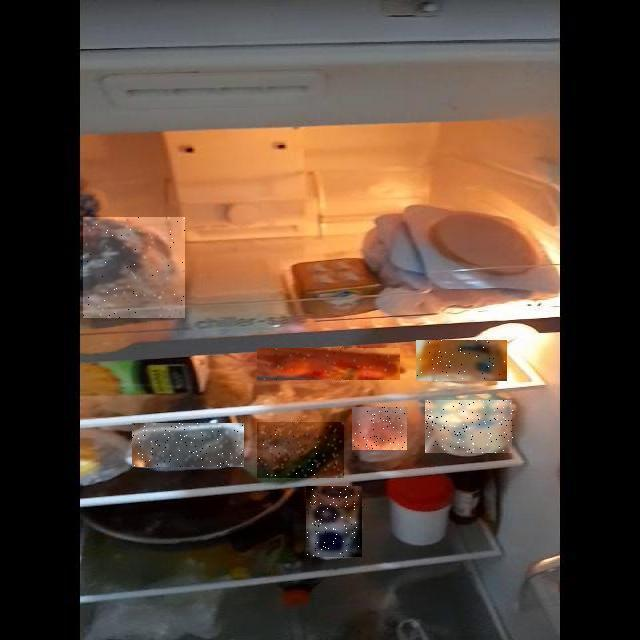Bread: (83, 217, 185, 318)
Broccoli: (132, 423, 244, 467)
Carrot: (257, 348, 400, 380)
Chillies: (257, 422, 344, 478)
Milk: (307, 486, 363, 557)
Tomato Paste: (352, 407, 407, 450)
Yoghurt: (426, 400, 514, 453), (416, 340, 507, 381)
